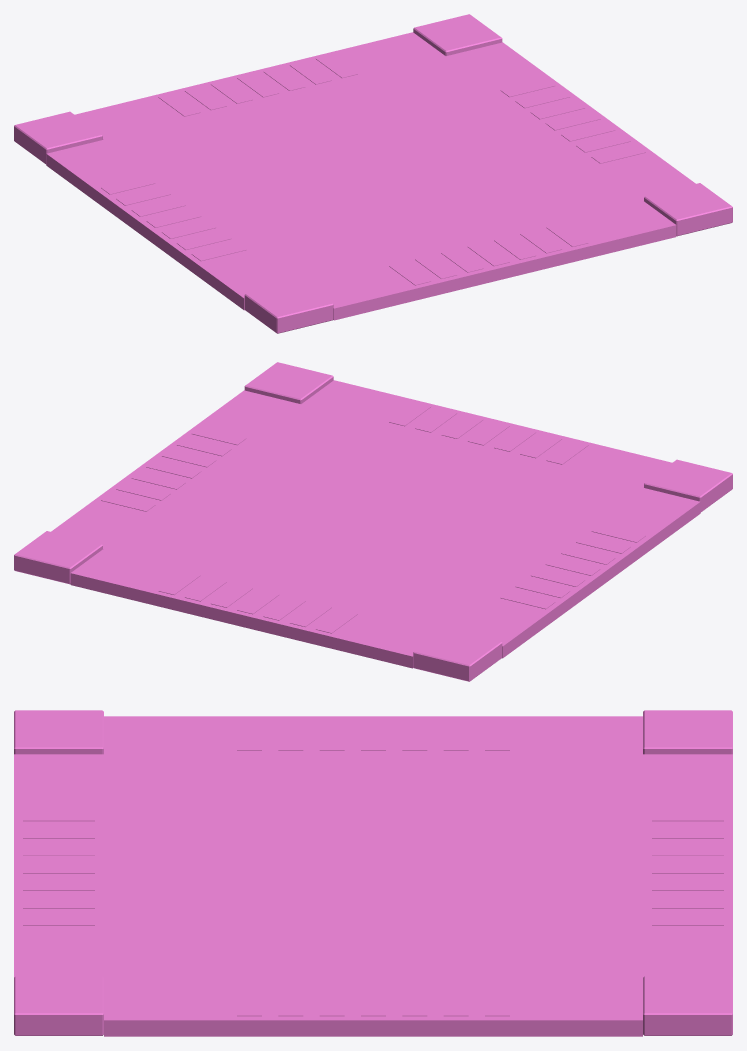
The model's file is Road_Cross.fbx.
3 views of the same model, one above another, from view 1: azimuth 30°, elevation 25°; view 2: azimuth 150°, elevation 25°; view 3: azimuth 270°, elevation 25° (orthographic). The views are drawn at different scales.
Visible parts, largest first — view 1: Tile; view 2: Tile; view 3: Tile.
Part boxes in pixels (left/top/right/bottom): Tile: left=14, top=14, right=732, bottom=333; Tile: left=14, top=362, right=732, bottom=681; Tile: left=14, top=710, right=732, bottom=1036.
Bounding box in the file's own units: 40 × 1.4 × 40.
1 material, 1 textured.
